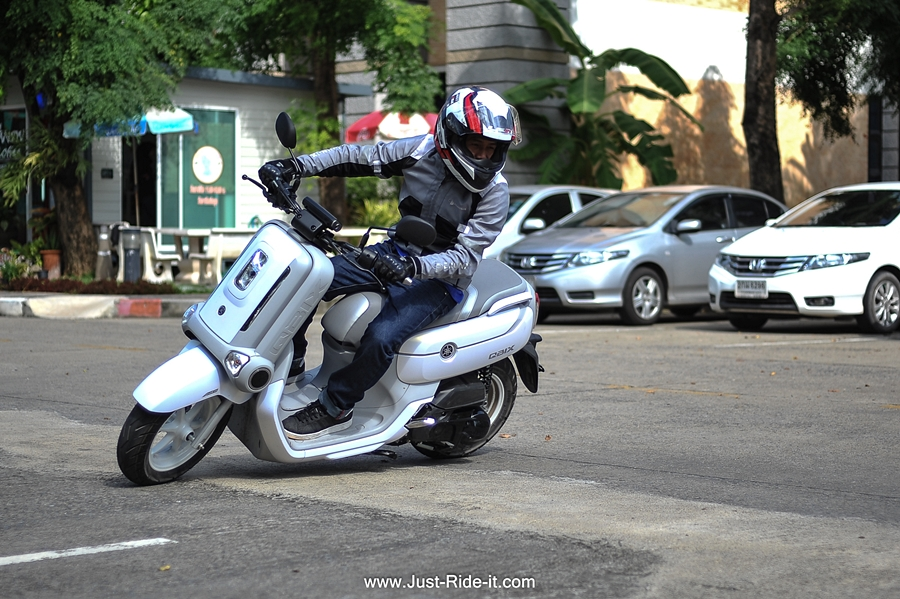helmet: (434, 85, 520, 195)
motorcycle: (112, 113, 545, 491)
